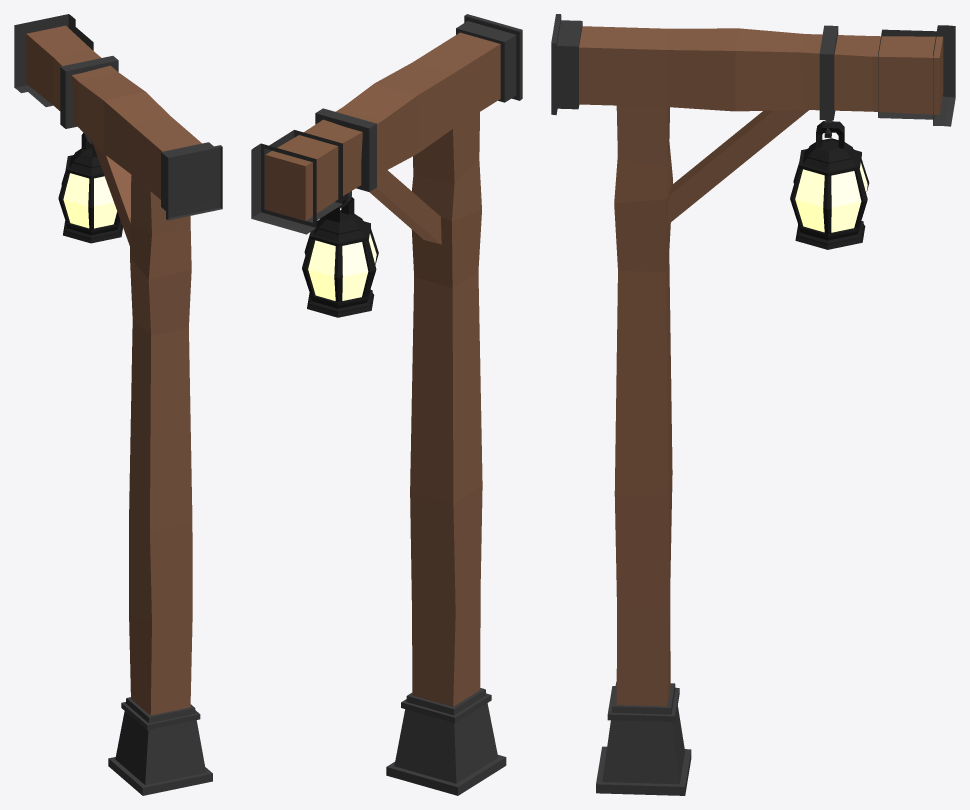
Rendered from object_island_lamp.glb.
3 views of the same model, side by side, from view 1: azimuth 30°, elevation 25°; view 2: azimuth 150°, elevation 25°; view 3: azimuth 270°, elevation 25° (orthographic). The views are drawn at different scales.
Visible parts, largest first — view 1: Light Pole Lamp.004_House_Wooden_Support_0.001, Light Pole Lamp.004_Metal Light Pole_0.001, Light Pole Lamp.004_Lamp.001_0.001, Light Pole Lamp.004_Light Pole Light_0.001; view 2: Light Pole Lamp.004_House_Wooden_Support_0.001, Light Pole Lamp.004_Metal Light Pole_0.001, Light Pole Lamp.004_Lamp.001_0.001, Light Pole Lamp.004_Light Pole Light_0.001; view 3: Light Pole Lamp.004_House_Wooden_Support_0.001, Light Pole Lamp.004_Metal Light Pole_0.001, Light Pole Lamp.004_Lamp.001_0.001, Light Pole Lamp.004_Light Pole Light_0.001.
Boxes of the visible parts, bbox=[...] form: Light Pole Lamp.004_House_Wooden_Support_0.001: bbox=[26, 25, 201, 715]; Light Pole Lamp.004_Metal Light Pole_0.001: bbox=[14, 14, 222, 795]; Light Pole Lamp.004_Lamp.001_0.001: bbox=[58, 133, 122, 243]; Light Pole Lamp.004_Light Pole Light_0.001: bbox=[63, 173, 117, 228]; Light Pole Lamp.004_House_Wooden_Support_0.001: bbox=[265, 32, 500, 706]; Light Pole Lamp.004_Metal Light Pole_0.001: bbox=[251, 14, 522, 795]; Light Pole Lamp.004_Lamp.001_0.001: bbox=[302, 196, 378, 317]; Light Pole Lamp.004_Light Pole Light_0.001: bbox=[308, 234, 376, 300]; Light Pole Lamp.004_House_Wooden_Support_0.001: bbox=[579, 26, 943, 706]; Light Pole Lamp.004_Metal Light Pole_0.001: bbox=[551, 14, 955, 795]; Light Pole Lamp.004_Lamp.001_0.001: bbox=[790, 121, 869, 249]; Light Pole Lamp.004_Light Pole Light_0.001: bbox=[795, 162, 867, 232].
Bounding box in the file's own units: 2.39 × 17.71 × 8.72.
